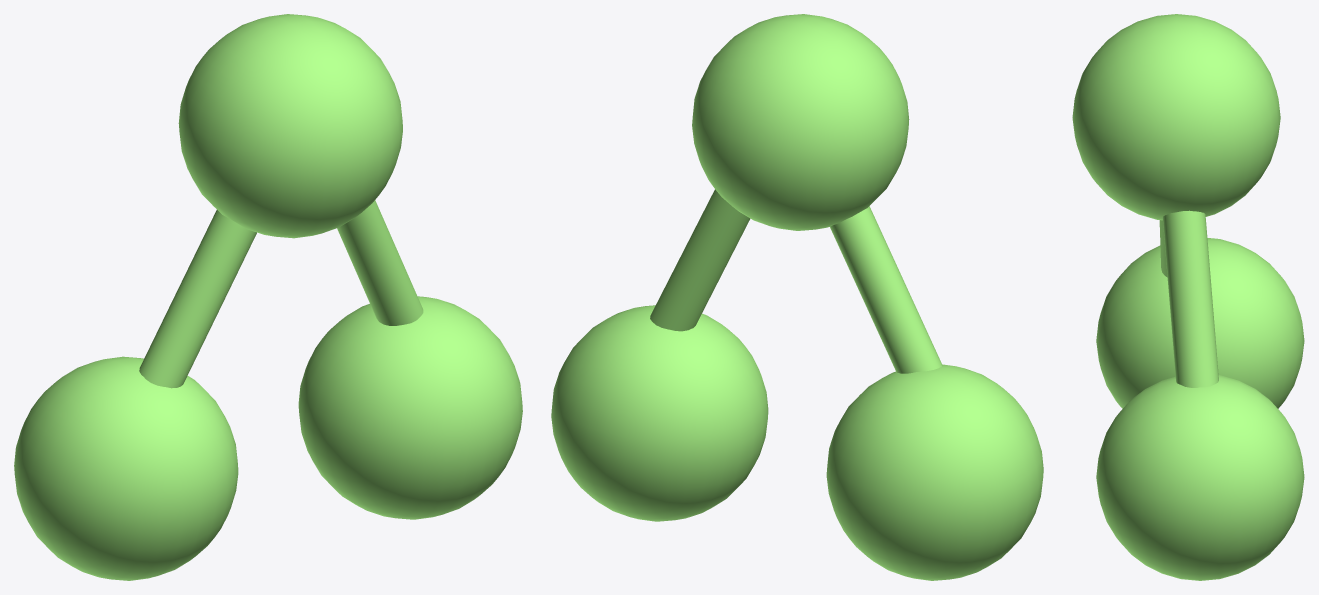
The model's file is molecule.fbx.
The picture shows the model from 3 angles, left to right: view 1: azimuth 30°, elevation 25°; view 2: azimuth 150°, elevation 25°; view 3: azimuth 270°, elevation 25°; orthographic projection. The views are drawn at different scales.
Parts seen in each view (by area): view 1: Sphere, Sphere__1_, Sphere__2_, Cylinder, Cylinder__1_; view 2: Sphere, Sphere__1_, Sphere__2_, Cylinder, Cylinder__1_; view 3: Sphere, Sphere__2_, Sphere__1_, Cylinder__1_.
Boxes of the visible parts, box(x1,y1,x2,y2) form: Sphere: box(178, 14, 402, 238); Sphere__1_: box(14, 356, 238, 580); Sphere__2_: box(298, 296, 522, 519); Cylinder: box(139, 210, 256, 388); Cylinder__1_: box(337, 200, 423, 325); Sphere: box(692, 14, 909, 230); Sphere__1_: box(826, 364, 1043, 580); Sphere__2_: box(551, 305, 768, 521); Cylinder: box(830, 206, 942, 373); Cylinder__1_: box(650, 189, 750, 331); Sphere: box(1072, 14, 1280, 220); Sphere__2_: box(1096, 375, 1304, 580); Sphere__1_: box(1096, 238, 1304, 408); Cylinder__1_: box(1162, 210, 1218, 387).
Size of the model in its own units: 366 by 385 by 166.
